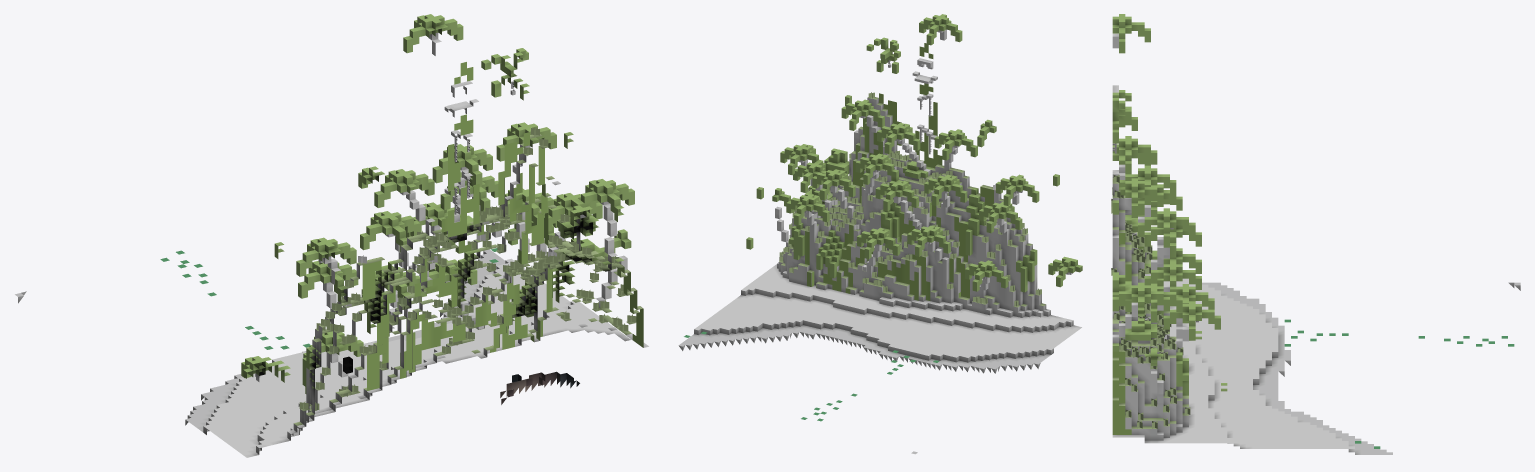
3 views of the same model, side by side, from view 1: azimuth 30°, elevation 25°; view 2: azimuth 150°, elevation 25°; view 3: azimuth 270°, elevation 25° (orthographic). The views are drawn at different scales.
Parts seen in each view (by area): view 1: recorte, opaco; view 2: recorte, opaco; view 3: opaco, recorte.
Part boxes in pixels (<box>): recorte: <box>160,14,643,435</box>; opaco: <box>15,32,648,457</box>; recorte: <box>684,14,1082,421</box>; opaco: <box>678,29,1081,454</box>; opaco: <box>1112,34,1520,454</box>; recorte: <box>1111,14,1514,448</box>.
Size of the model in its own units: 64 by 61 by 64.2.
